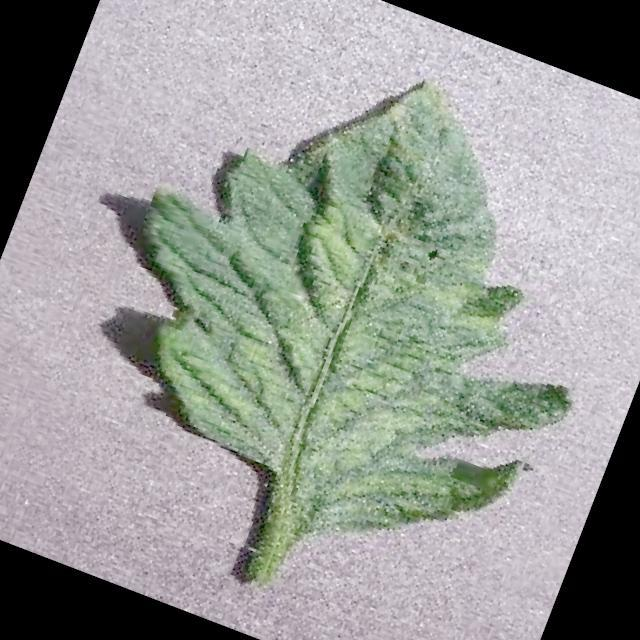Tomato mosaic virus leaf: (61, 5, 640, 609)
